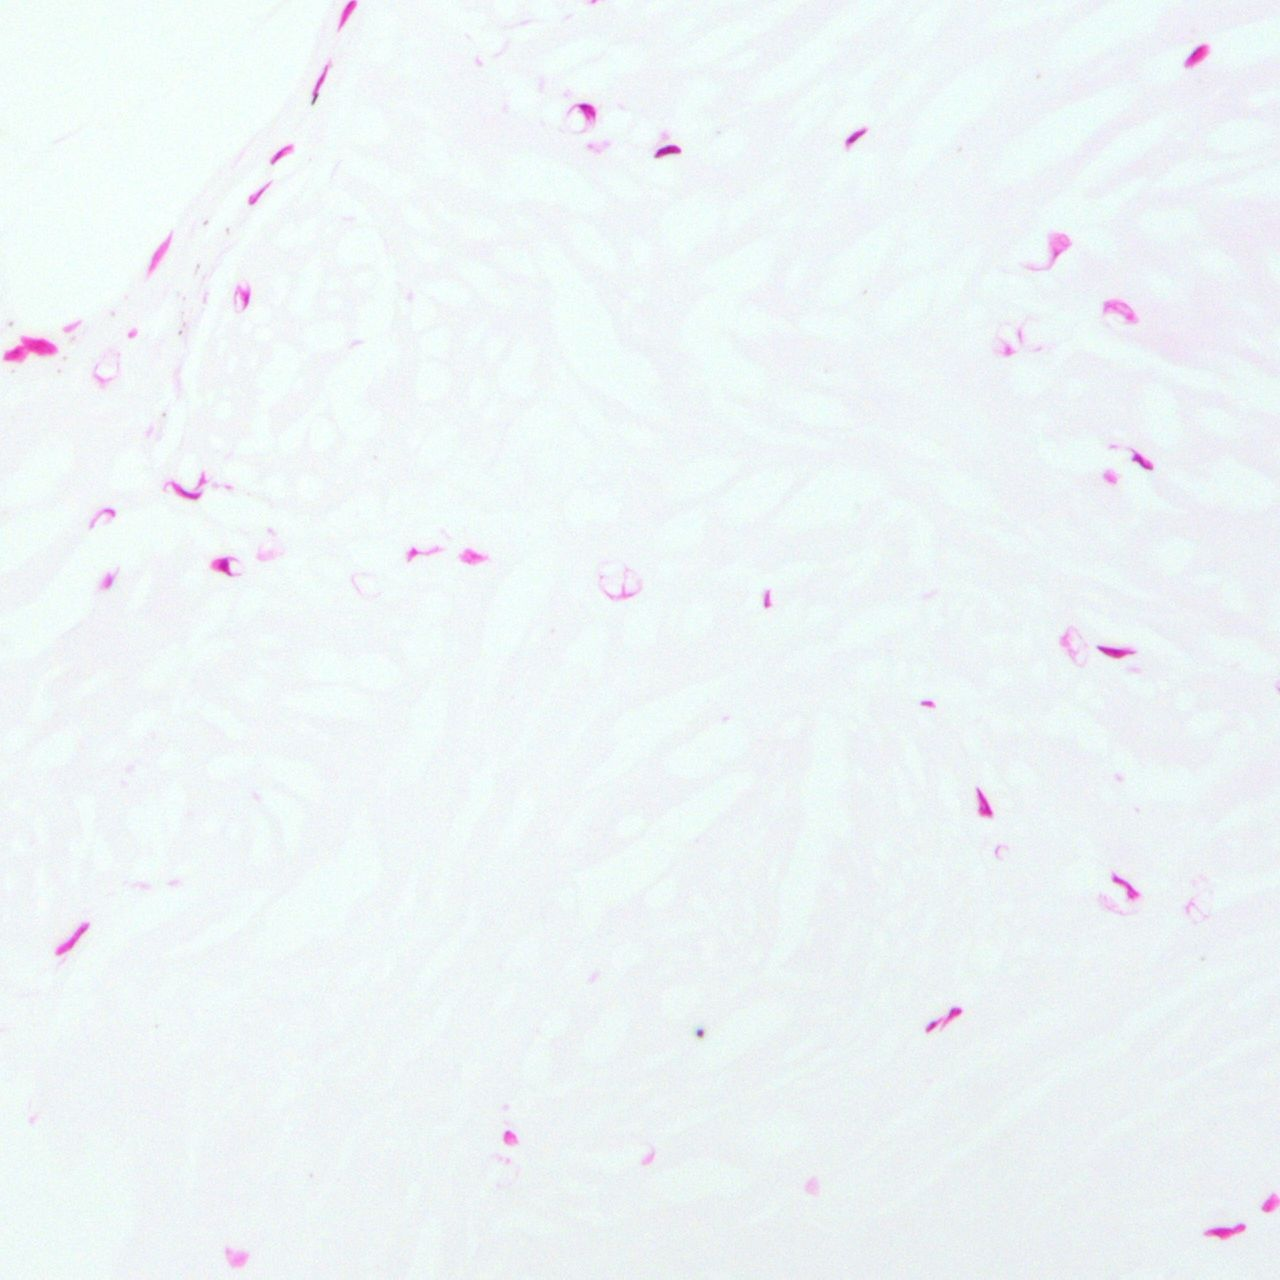dust: (696, 1028, 704, 1039)
nucleus-FG: (49, 919, 94, 959), (921, 1001, 966, 1038), (1104, 869, 1143, 903), (964, 783, 996, 822), (1180, 39, 1213, 72), (164, 477, 202, 504), (839, 120, 870, 150), (266, 138, 298, 167), (1095, 644, 1138, 662), (1203, 1222, 1245, 1240), (1129, 449, 1157, 473), (211, 554, 238, 577), (651, 141, 682, 160), (579, 103, 595, 133), (763, 589, 771, 608)
